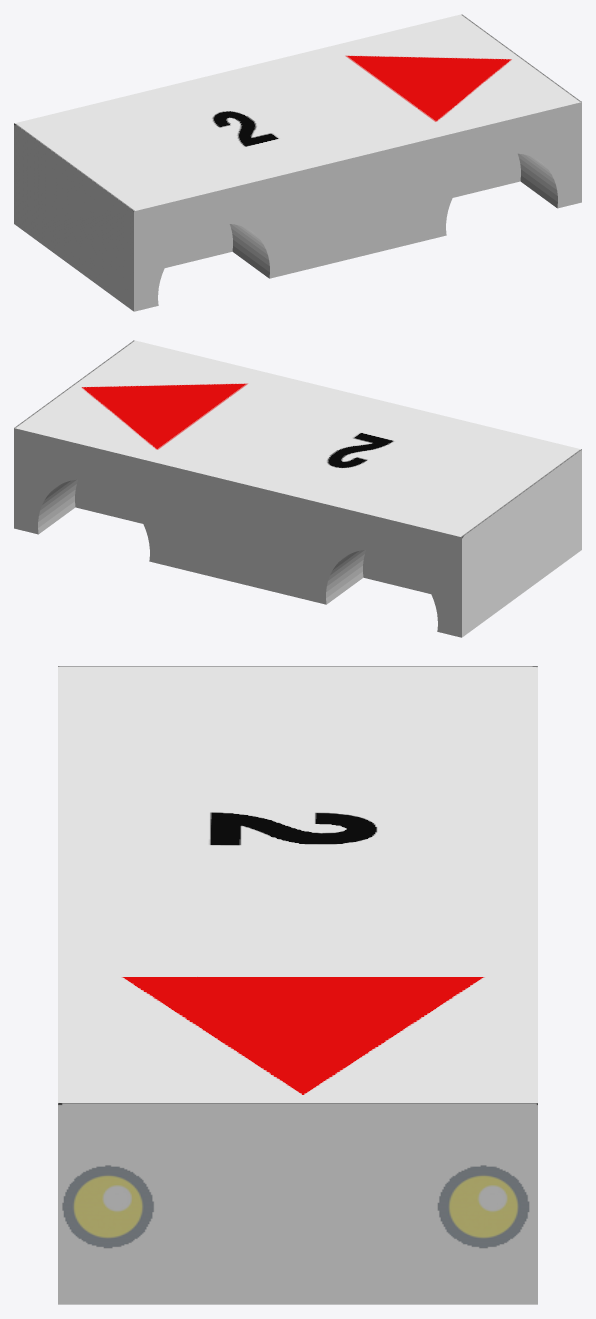
File: base_link_robot_2.dae
3 renders of one model, top to bottom at view 1: azimuth 30°, elevation 25°; view 2: azimuth 150°, elevation 25°; view 3: azimuth 270°, elevation 25°, orthographic. The views are drawn at different scales.
Visible parts, largest first — view 1: base_link; view 2: base_link; view 3: base_link.
Part boxes in pixels (bbox=[...]): base_link: bbox=[14, 14, 581, 311]; base_link: bbox=[14, 340, 581, 637]; base_link: bbox=[58, 666, 537, 1304].
Bounding box in the file's own units: 2.8 × 1.3 × 0.6.
2 materials, 1 textured.
